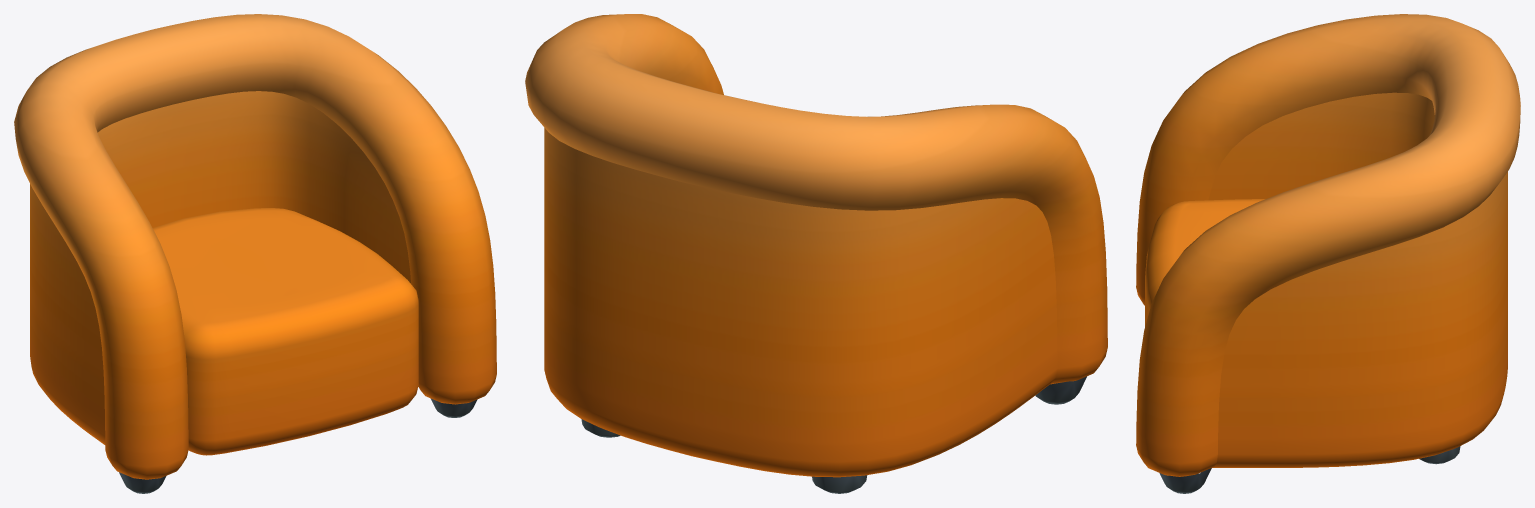
The model's file is Armchair_12.glb.
3 views of the same model, side by side, from view 1: azimuth 30°, elevation 25°; view 2: azimuth 150°, elevation 25°; view 3: azimuth 270°, elevation 25° (orthographic). The views are drawn at different scales.
Visible parts, largest first — view 1: Armchair_12; view 2: Armchair_12; view 3: Armchair_12.
Part boxes in pixels (x1=…): Armchair_12: x1=14, y1=14, x2=496, y2=493; Armchair_12: x1=525, y1=14, x2=1107, y2=493; Armchair_12: x1=1136, y1=14, x2=1520, y2=493.
Bounding box in the file's own units: 0.9885 × 0.781 × 0.822.
Materials: 1 (1 with a texture image).
